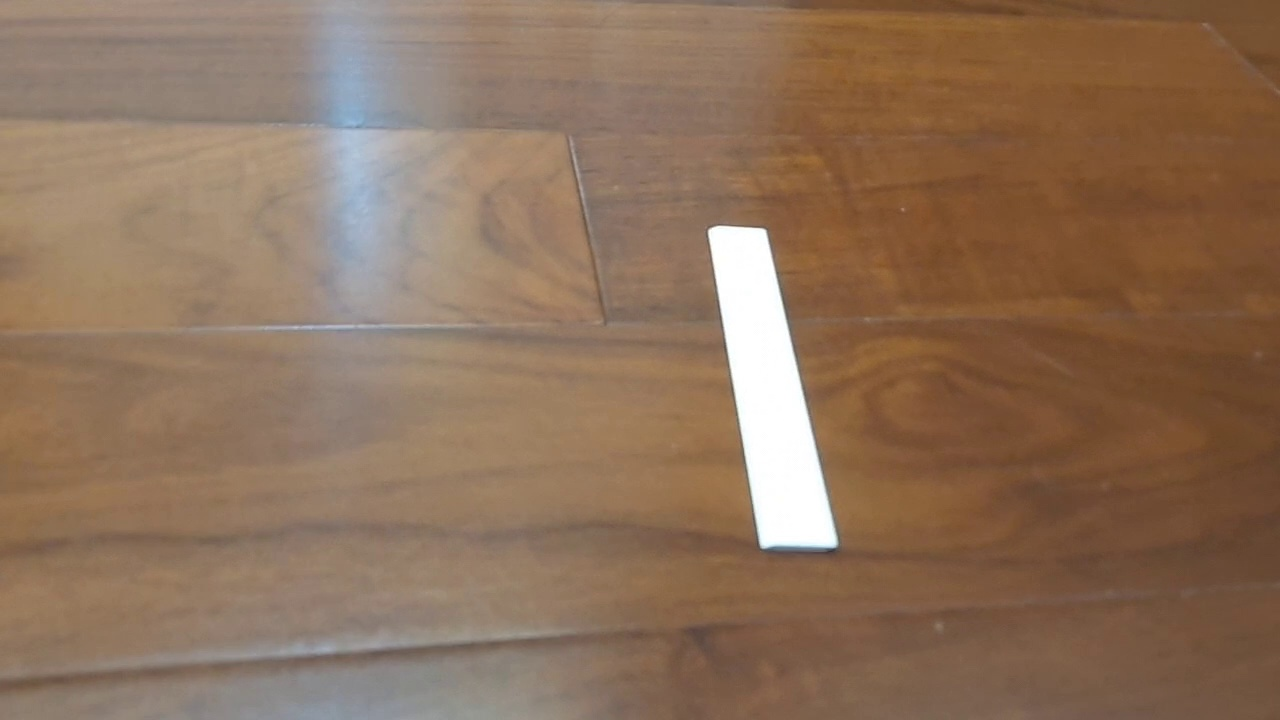ruler: (706, 224, 840, 554)
